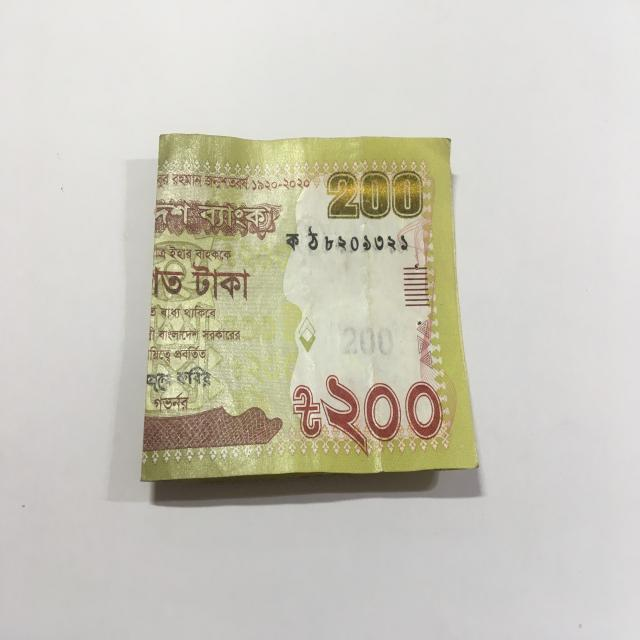Taka: (148, 123, 478, 463)
